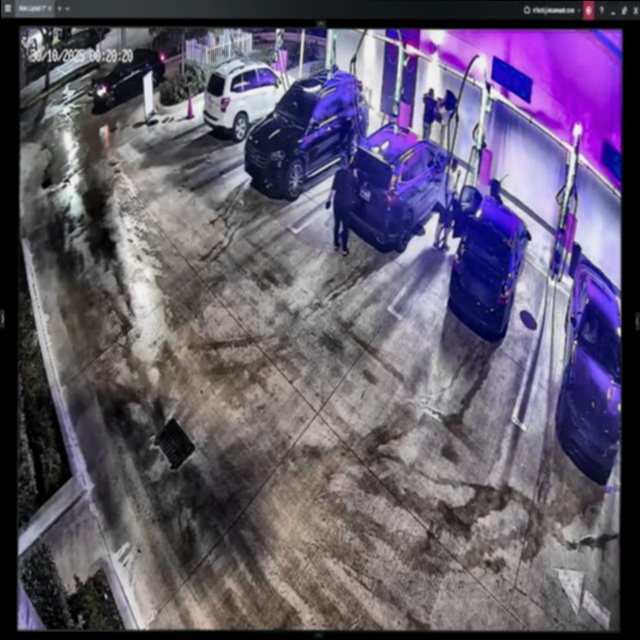Car: (248, 67, 368, 196), (342, 119, 450, 251), (450, 188, 532, 337)
